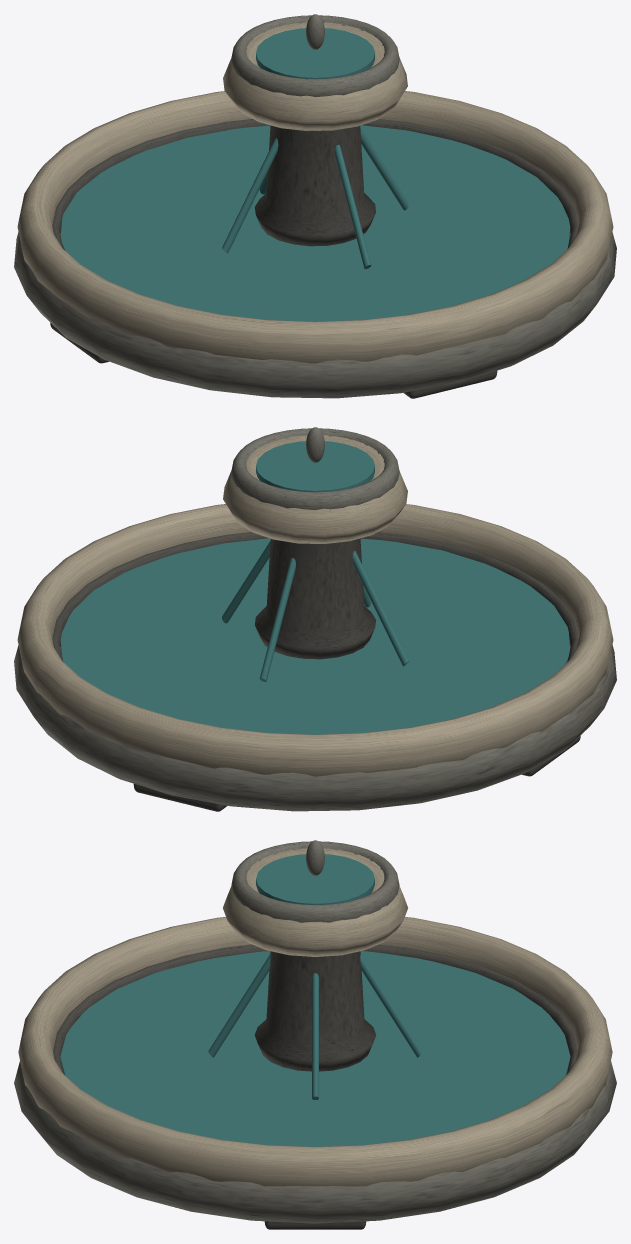
Rendered from fountain.glb.
The picture shows the model from 3 angles, top to bottom: view 1: azimuth 30°, elevation 25°; view 2: azimuth 150°, elevation 25°; view 3: azimuth 270°, elevation 25°; orthographic projection.
Parts seen in each view (by area): view 1: fountain; view 2: fountain; view 3: fountain.
Boxes of the visible parts, x1,y1,x2,y2 form: fountain: (14,14,616,398); fountain: (14,427,616,811); fountain: (14,840,616,1229).
Size of the model in its own units: 4.4 by 2.2 by 4.4.
Materials: 1 (1 with a texture image).
